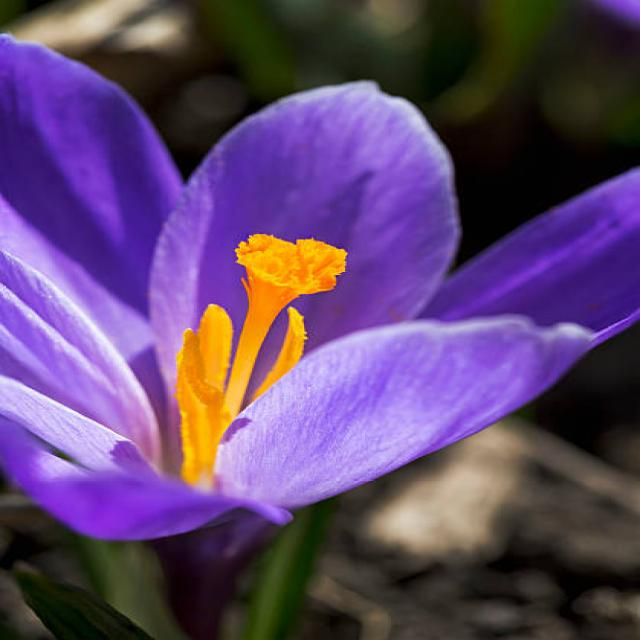saffron open: (4, 38, 637, 640)
